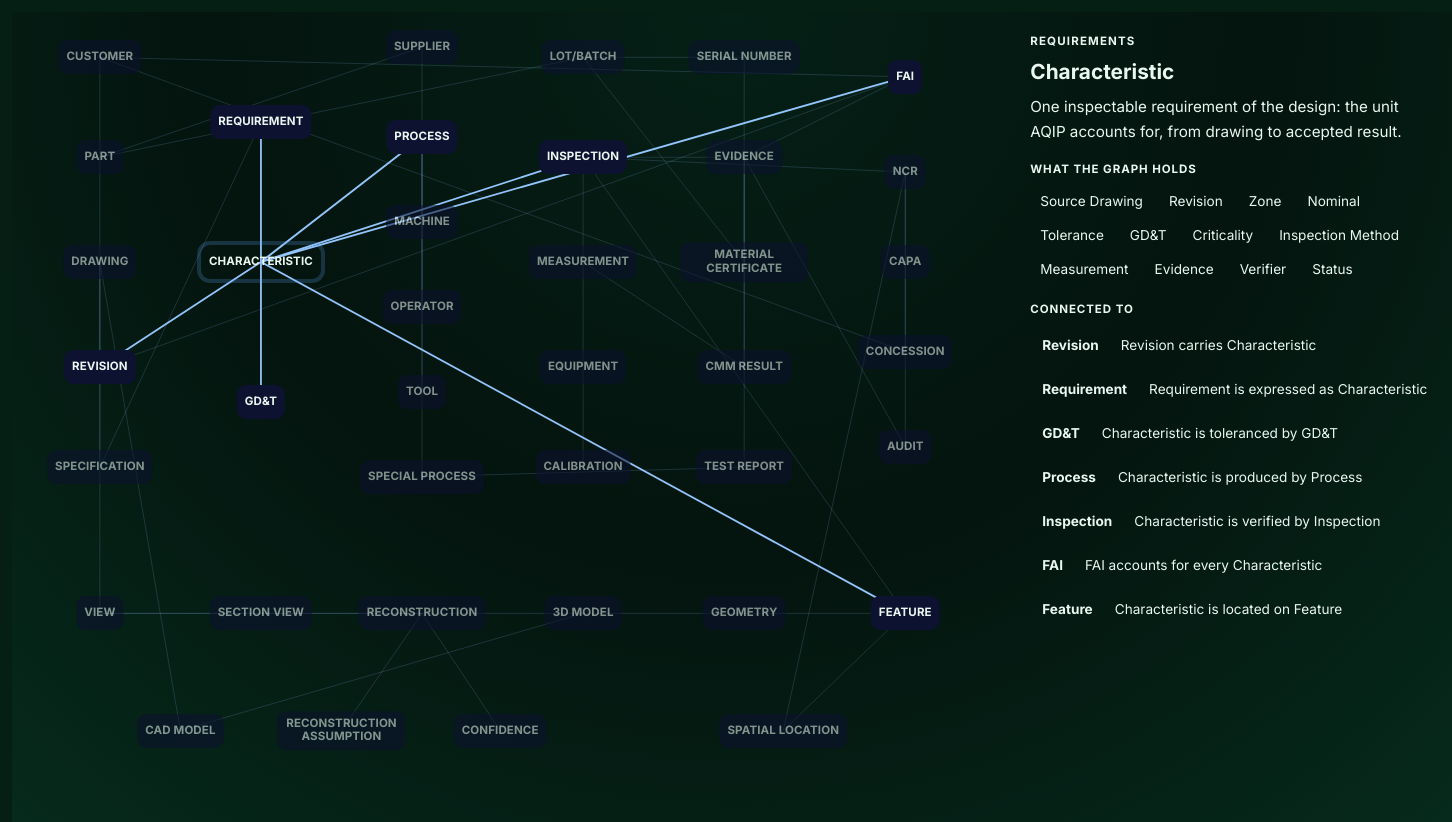
Test: QualityGraph › selecting an entity updates the panel and reports the node, never free text
What coordinates should you click on to do the following:
click the button "Calibration"
I would click on:
 (583, 467)
Its box is [536,450,631,484].
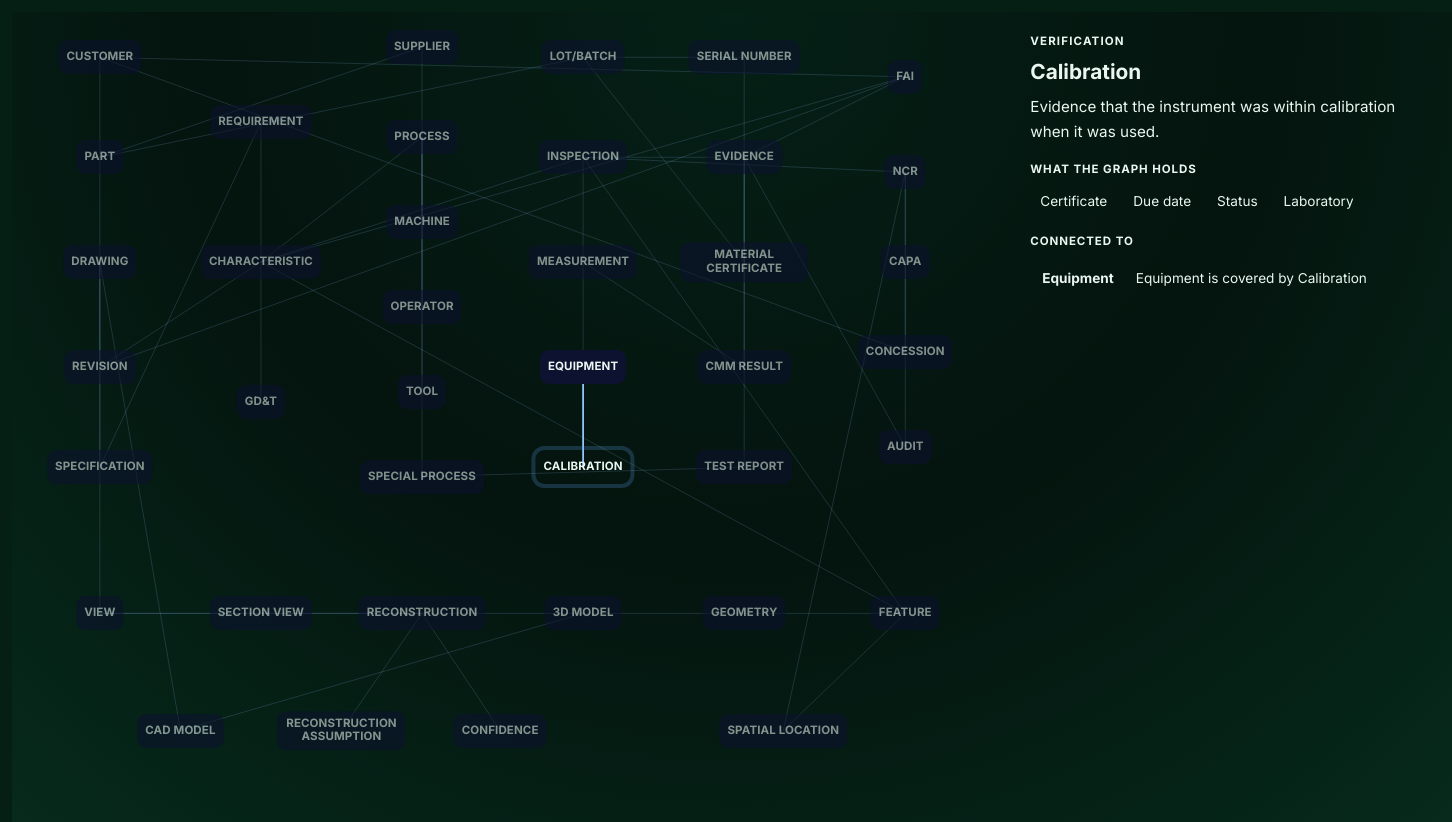
expect the heading "Calibration" is shown: met, box [1030,59,1141,84]
expect the text "Equipment is covered by Calibration" is shown: met, box [1136,268,1367,290]
Note: A relation in the panel is a way to move on through the graph.
What coordinates should you click on to do the following:
click the button "Equipment" next to "Equipment is covered by Calibration"
I would click on:
 (1078, 279)
Its box is [1030,261,1126,297].
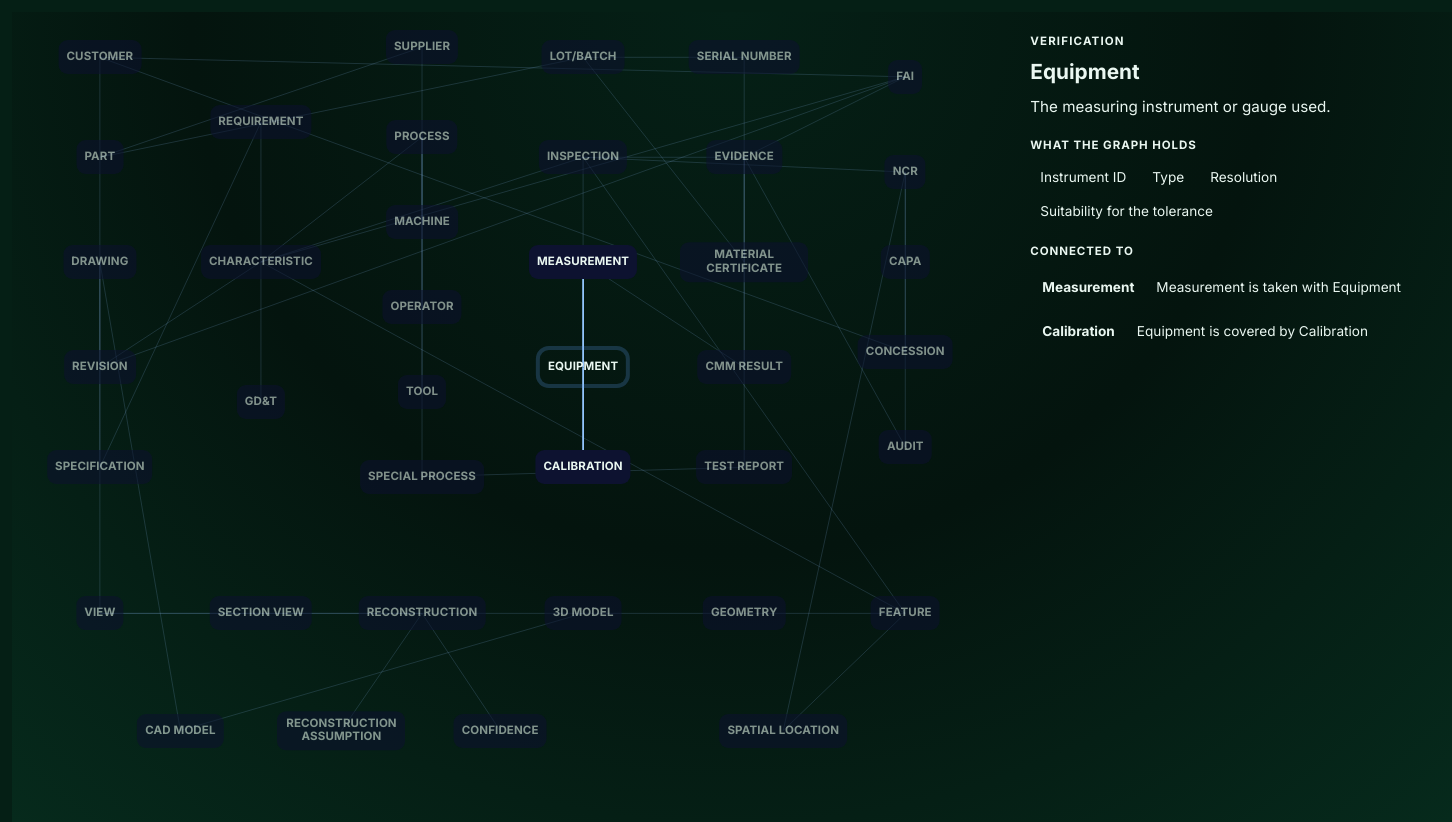
expect the heading "Equipment" is shown: met, box [1030,59,1140,84]
